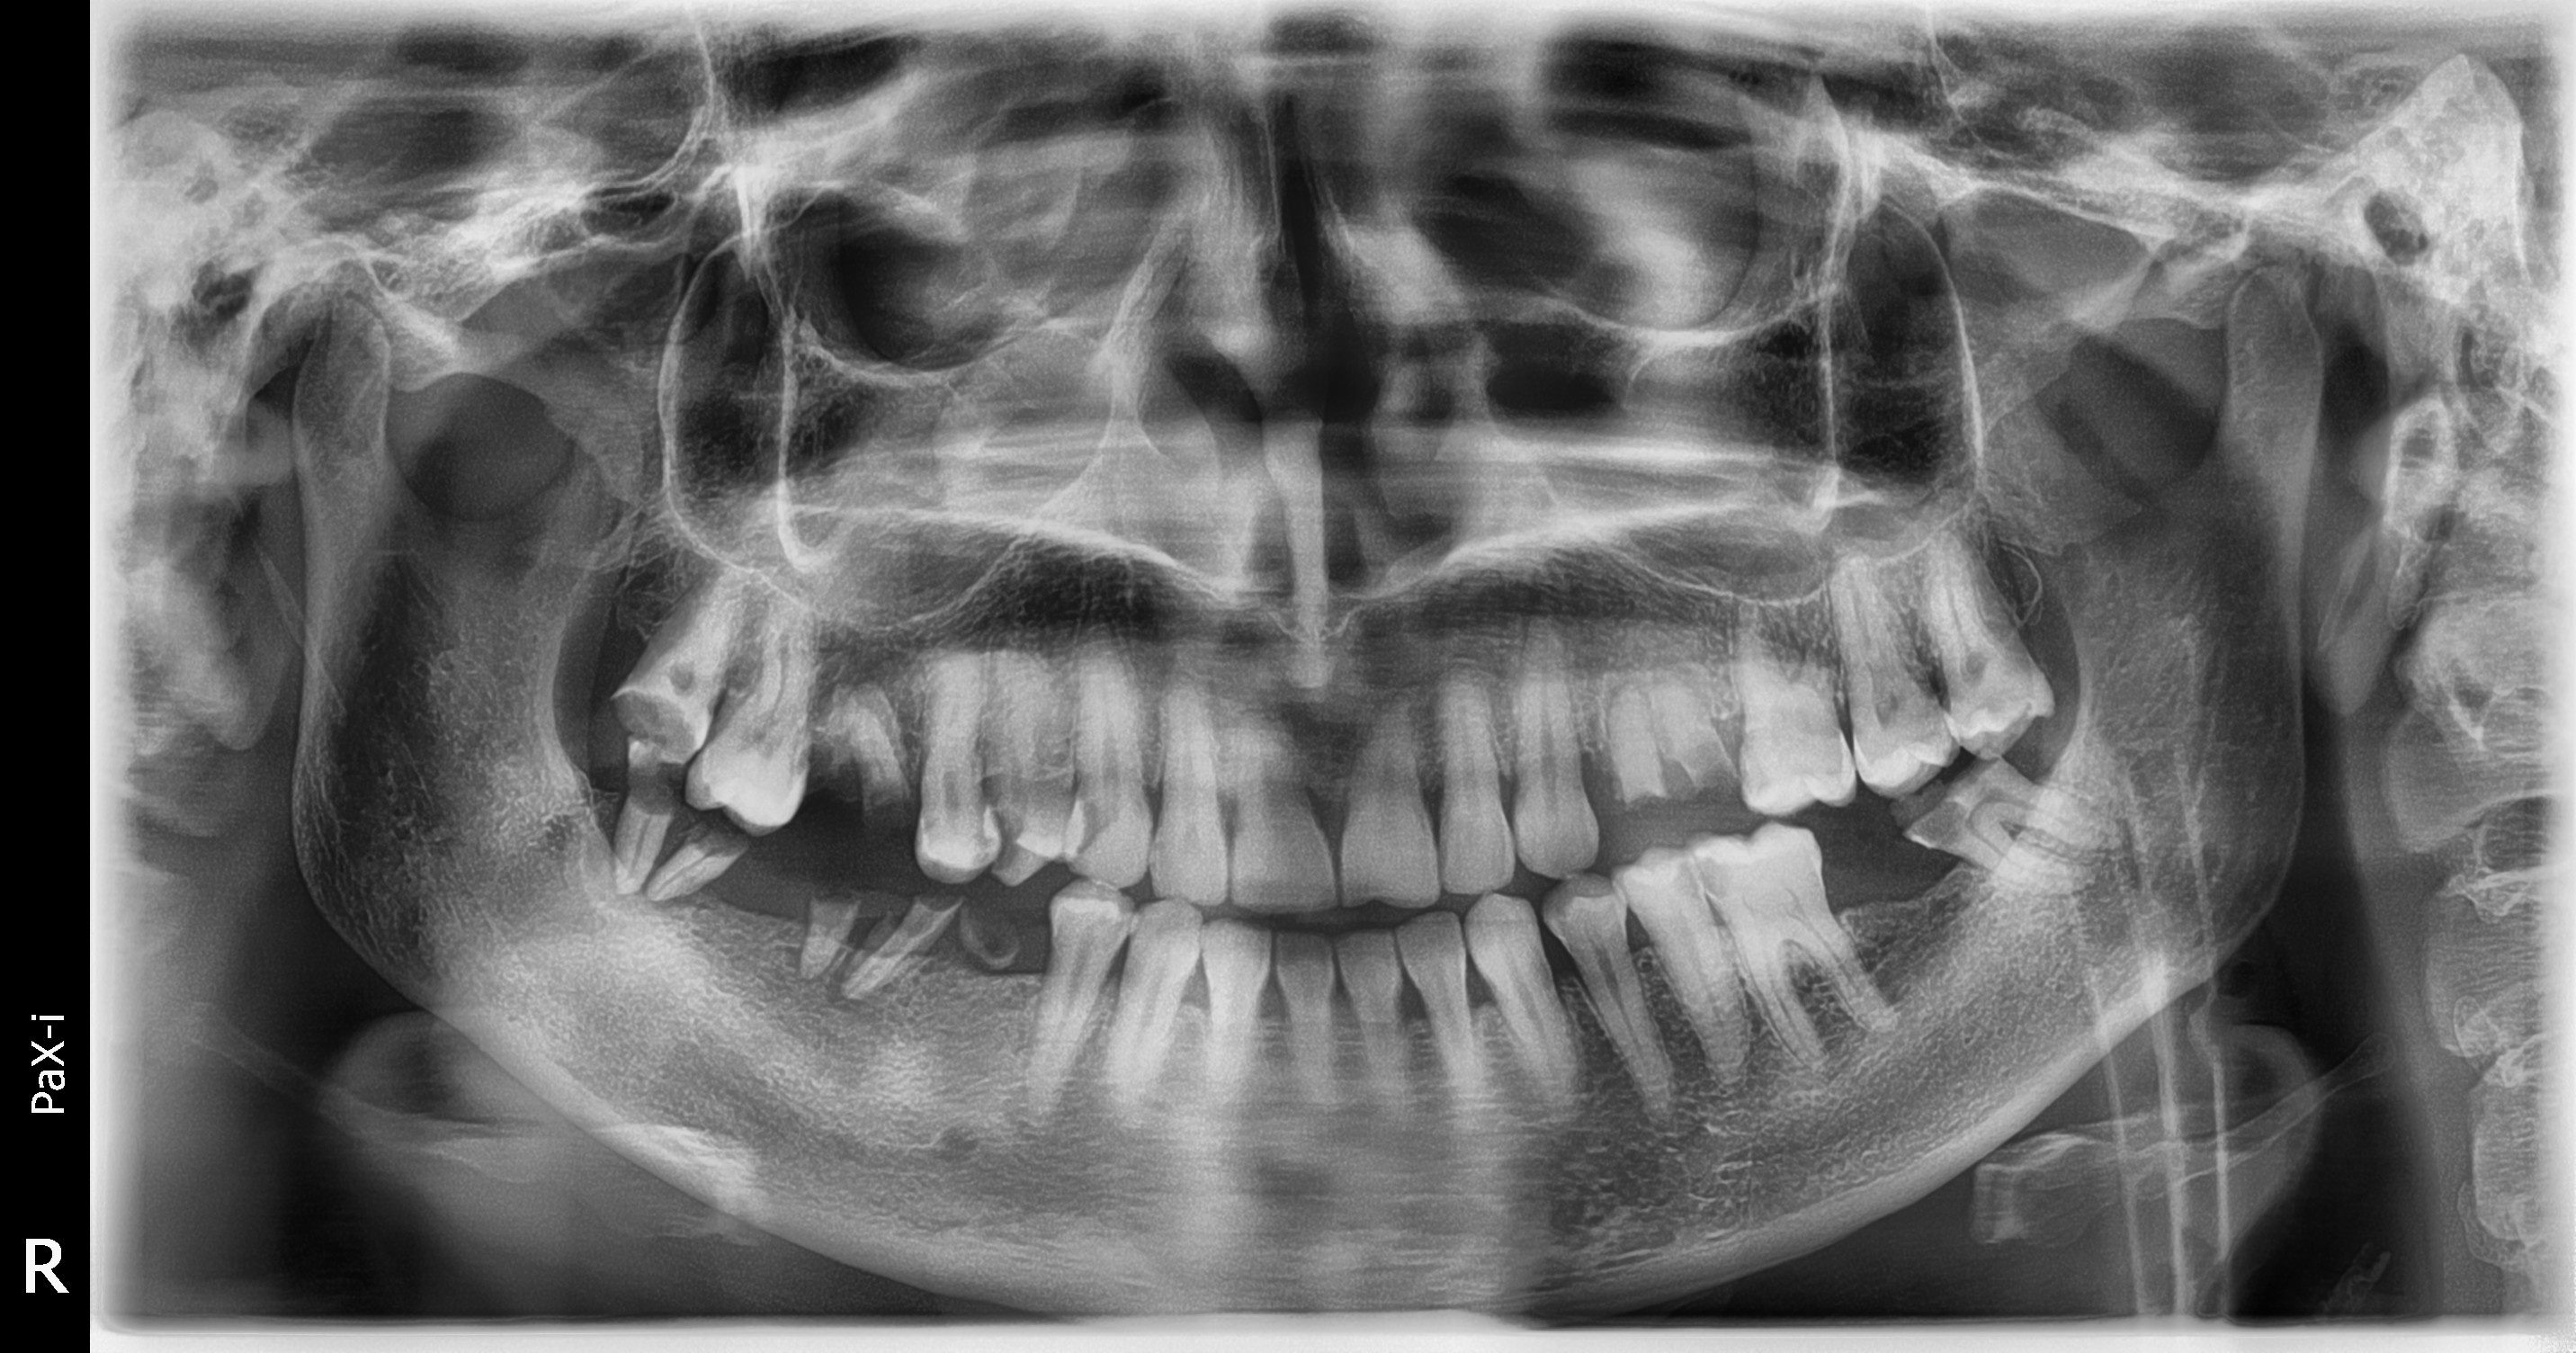API: (1027, 371, 2576, 1239), (770, 290, 2411, 1017), (794, 305, 2494, 1007), (382, 453, 1273, 1353), (228, 395, 922, 1336)
BON: (688, 470, 2114, 1353), (658, 469, 2014, 1353), (617, 470, 1906, 1353)
CAR: (823, 394, 2567, 1307), (802, 404, 2516, 1317), (918, 366, 2576, 1239), (855, 356, 2576, 1160), (937, 344, 2576, 1104), (939, 312, 2576, 1036), (557, 399, 1728, 1268), (508, 356, 1620, 1229), (477, 354, 1506, 1227), (469, 385, 1467, 1251), (249, 297, 946, 1053), (310, 297, 1017, 993)
ROT: (785, 269, 2513, 1077), (750, 266, 2399, 1099), (453, 428, 1462, 1353), (375, 385, 1327, 1353), (377, 397, 1210, 1353), (308, 375, 1024, 1285), (278, 327, 944, 1234)
